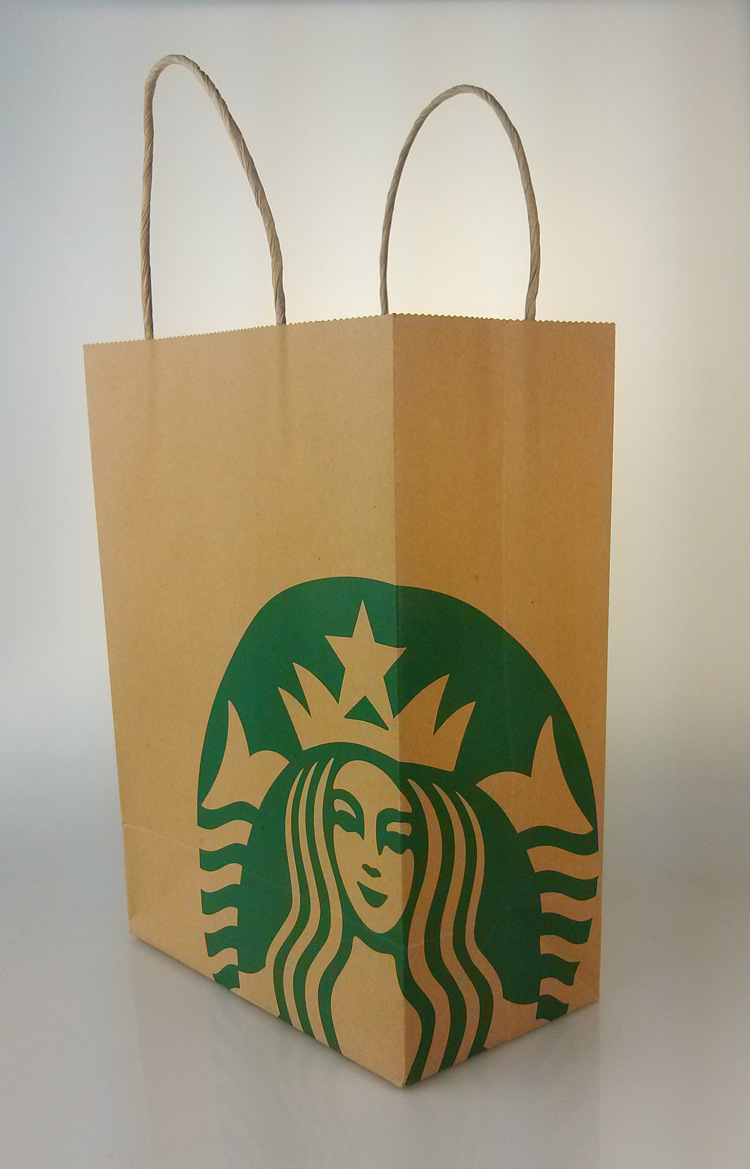flexible: (76, 42, 618, 1099)
